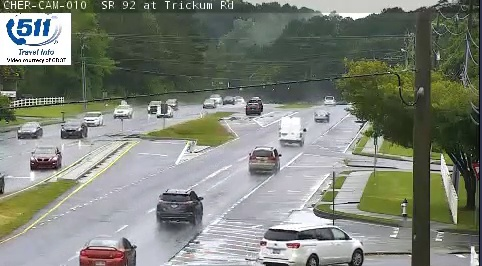car: (80, 237, 136, 266), (156, 190, 203, 223), (249, 147, 279, 173), (314, 109, 330, 122)
van: (279, 117, 304, 143)
